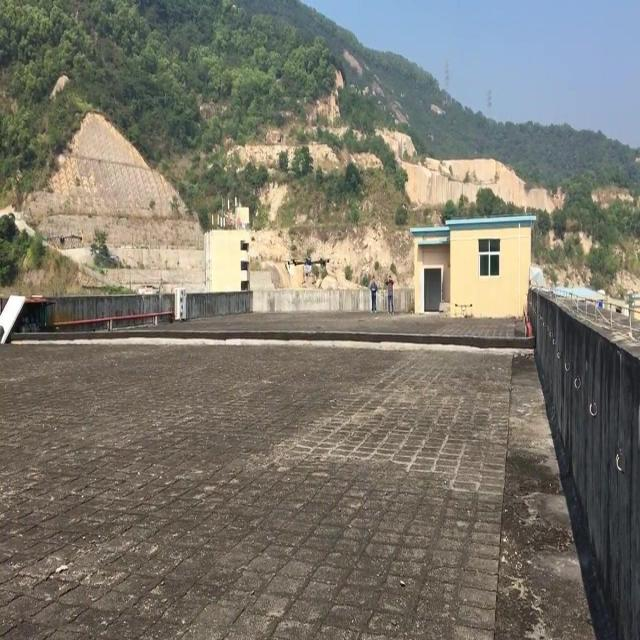UAV: (288, 257, 331, 285)
